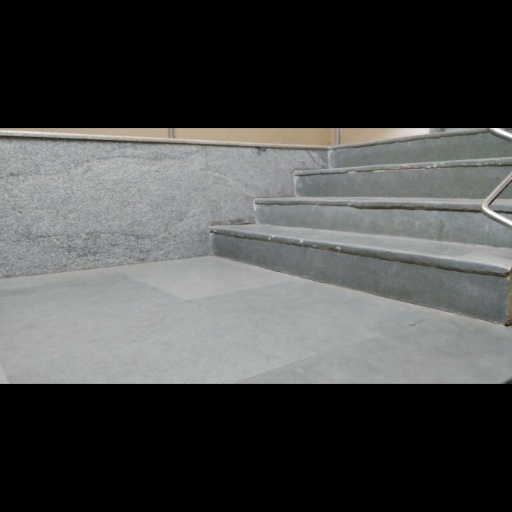Stairs: (212, 130, 512, 276)
